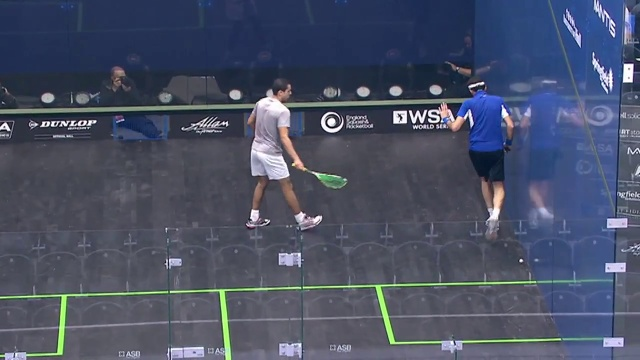person: (241, 78, 320, 235), (444, 76, 519, 228)
